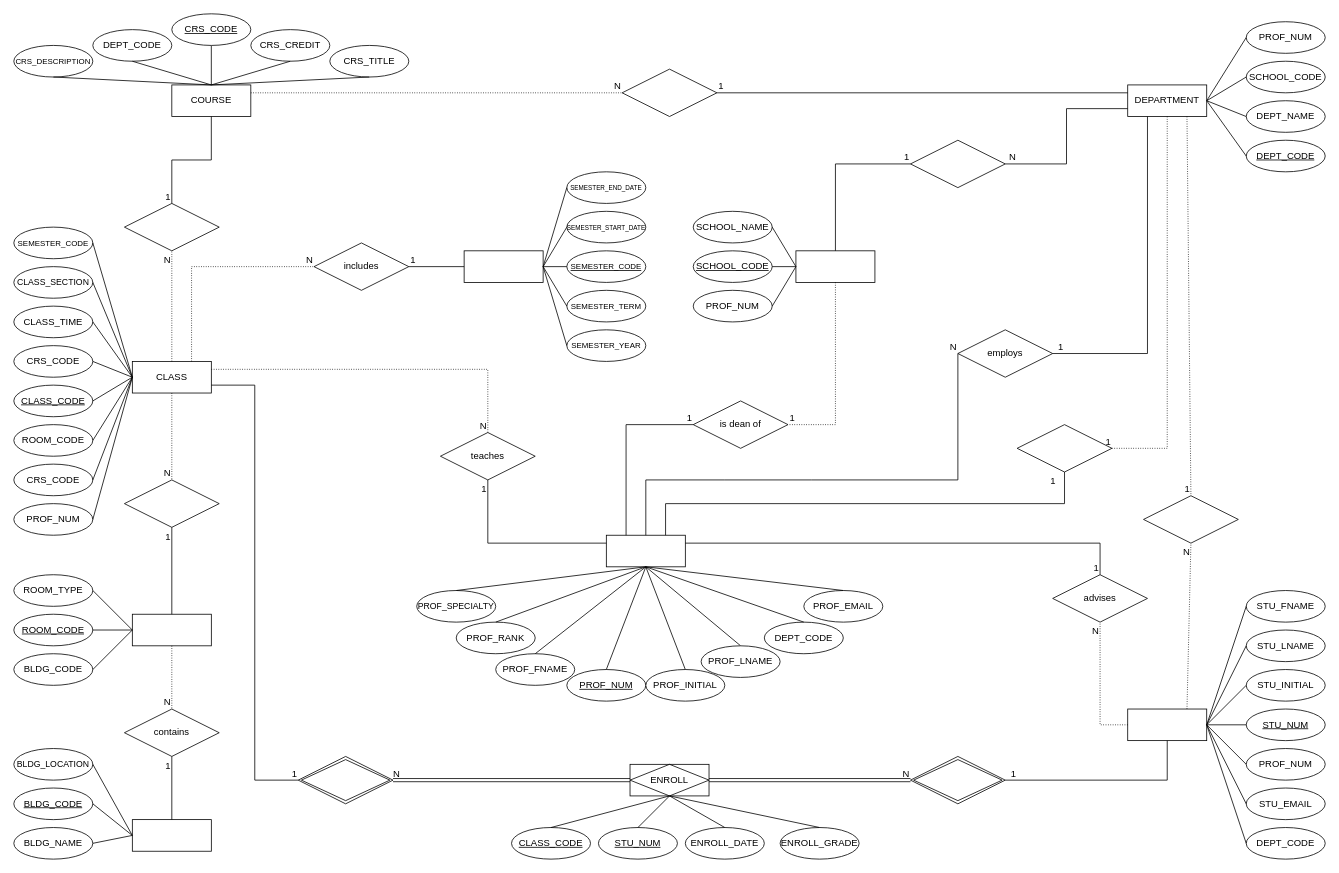
The diagram is 1339 pixels wide and 873 high, and some of its shapes have lost their labels. Each missing label, with the box of its shape:
BUILDING: (132, 819, 211, 851)
chairs: (1016, 424, 1112, 472)
generates: (124, 203, 219, 251)
has: (1143, 495, 1238, 543)
is found in: (297, 756, 393, 804)
is used for: (124, 479, 219, 527)
is written in: (910, 756, 1005, 804)
offers: (621, 68, 717, 117)
operates: (910, 139, 1005, 188)
PROFESSOR: (606, 534, 685, 567)
ROOM: (132, 613, 211, 646)
SCHOOL: (795, 250, 875, 282)
SEMESTER: (463, 250, 543, 282)
STUDENT: (1127, 708, 1207, 741)
